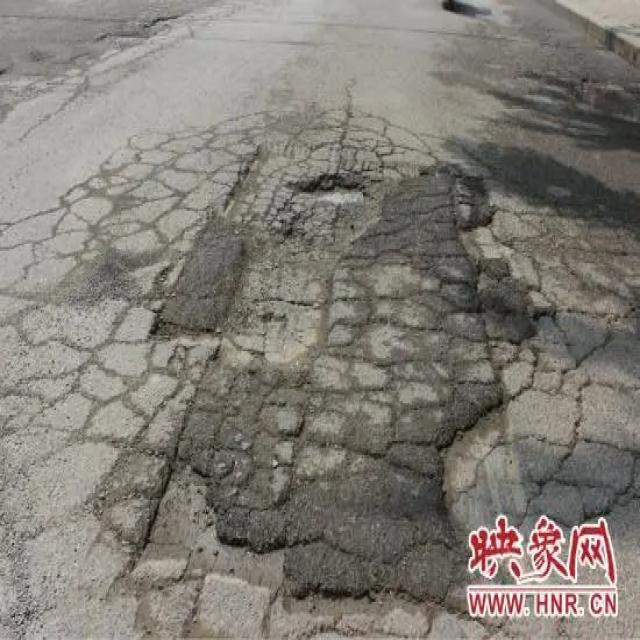Pothole: (137, 456, 284, 596), (433, 384, 535, 567), (290, 173, 369, 202)
